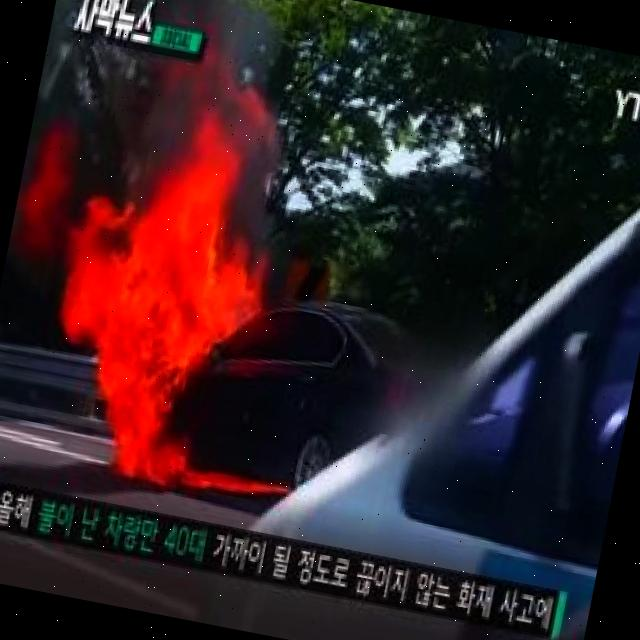fire: (44, 138, 248, 490)
